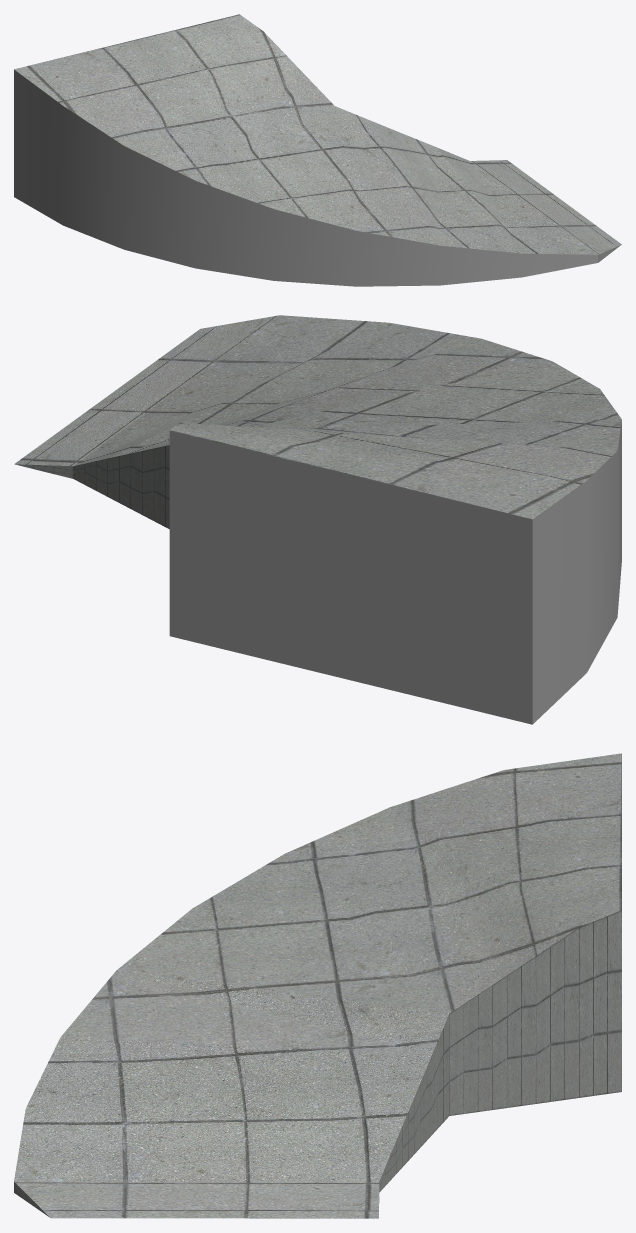
File: CloudLevel_Stair_Collider_001.fbx
The picture shows the model from 3 angles, top to bottom: view 1: azimuth 30°, elevation 25°; view 2: azimuth 150°, elevation 25°; view 3: azimuth 270°, elevation 25°; orthographic projection. The views are drawn at different scales.
Parts seen in each view (by area): view 1: CloudLevel_Stair_Collider; view 2: CloudLevel_Stair_Collider; view 3: CloudLevel_Stair_Collider.
Boxes of the visible parts, bbox=[...] form: CloudLevel_Stair_Collider: bbox=[14, 14, 621, 286]; CloudLevel_Stair_Collider: bbox=[14, 315, 621, 724]; CloudLevel_Stair_Collider: bbox=[14, 753, 621, 1218].
Bounding box in the file's own units: 861 × 258 × 780.
